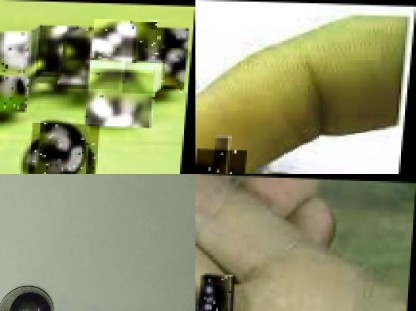ironball: (86, 65, 158, 127), (124, 27, 188, 93), (31, 122, 102, 174), (31, 25, 96, 81), (60, 32, 124, 88), (89, 19, 156, 72), (0, 30, 41, 76), (0, 54, 32, 112), (0, 280, 62, 309), (0, 49, 11, 72)
